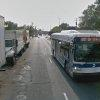Bus: (48, 26, 100, 87)
